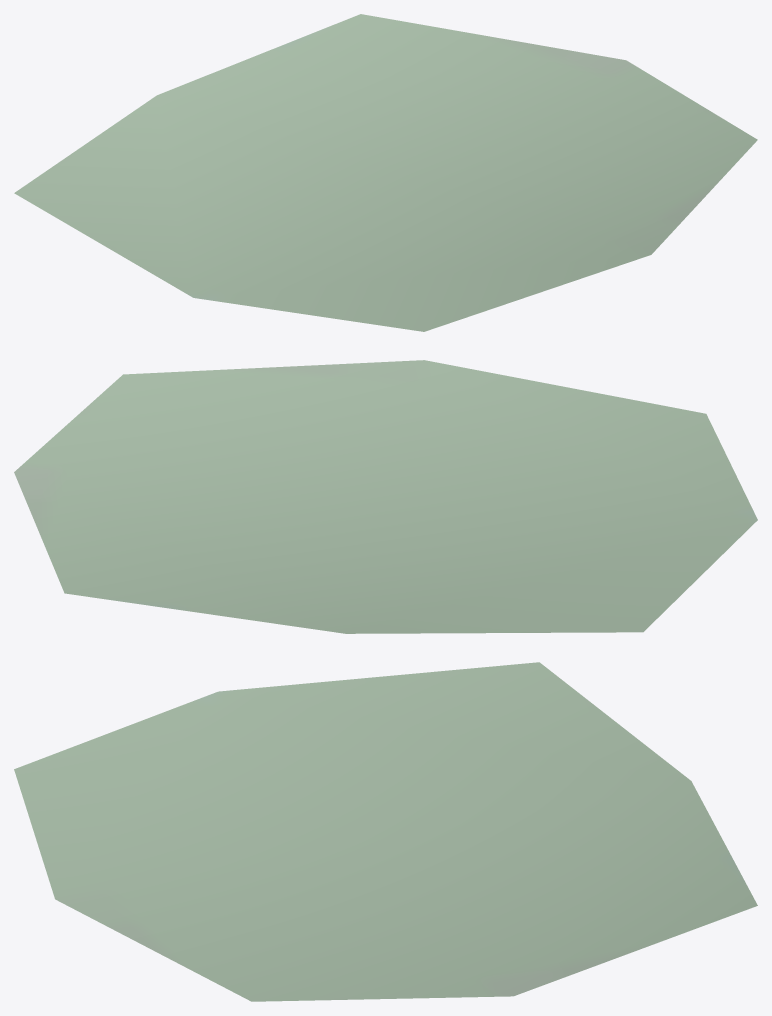
File: TROLLHOLE02_HOLECAP72.fbx
The picture shows the model from 3 angles, top to bottom: view 1: azimuth 30°, elevation 25°; view 2: azimuth 150°, elevation 25°; view 3: azimuth 270°, elevation 25°; orthographic projection. The views are drawn at different scales.
Visible parts, largest first — view 1: TROLLHOLE02_HOLECAP72; view 2: TROLLHOLE02_HOLECAP72; view 3: TROLLHOLE02_HOLECAP72.
Part boxes in pixels (left/top/right/bottom): TROLLHOLE02_HOLECAP72: left=14, top=14, right=757, bottom=331; TROLLHOLE02_HOLECAP72: left=14, top=360, right=757, bottom=633; TROLLHOLE02_HOLECAP72: left=14, top=662, right=757, bottom=1001.
Size of the model in its own units: 20880 by 322 by 19514.
Materials: 1 (1 with a texture image).
